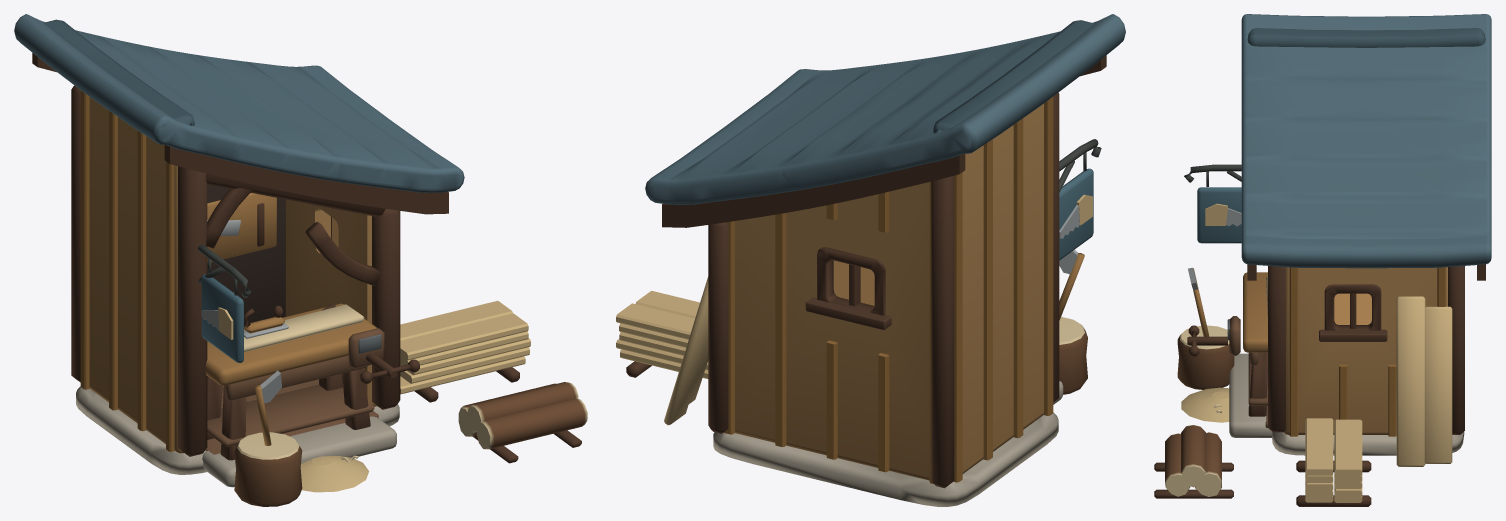
File: BLD_Workshop_A_T1.fbx
The picture shows the model from 3 angles, left to right: view 1: azimuth 30°, elevation 25°; view 2: azimuth 150°, elevation 25°; view 3: azimuth 270°, elevation 25°; orthographic projection. The views are drawn at different scales.
Parts seen in each view (by area): view 1: BLD_Workshop_A_T1_Body_LOD0, BLD_Workshop_A_T1_Sign_LOD0; view 2: BLD_Workshop_A_T1_Body_LOD0, BLD_Workshop_A_T1_Sign_LOD0; view 3: BLD_Workshop_A_T1_Body_LOD0, BLD_Workshop_A_T1_Sign_LOD0.
Part boxes in pixels (x1=…): BLD_Workshop_A_T1_Body_LOD0: x1=14, y1=14, x2=587, y2=506; BLD_Workshop_A_T1_Sign_LOD0: x1=201, y1=258, x2=243, y2=362; BLD_Workshop_A_T1_Body_LOD0: x1=616, y1=14, x2=1125, y2=506; BLD_Workshop_A_T1_Sign_LOD0: x1=1059, y1=152, x2=1093, y2=260; BLD_Workshop_A_T1_Body_LOD0: x1=1154, y1=14, x2=1491, y2=506; BLD_Workshop_A_T1_Sign_LOD0: x1=1197, y1=171, x2=1241, y2=243.
Size of what is drawn, in the model's own units: 3.63 by 3.21 by 2.97.
